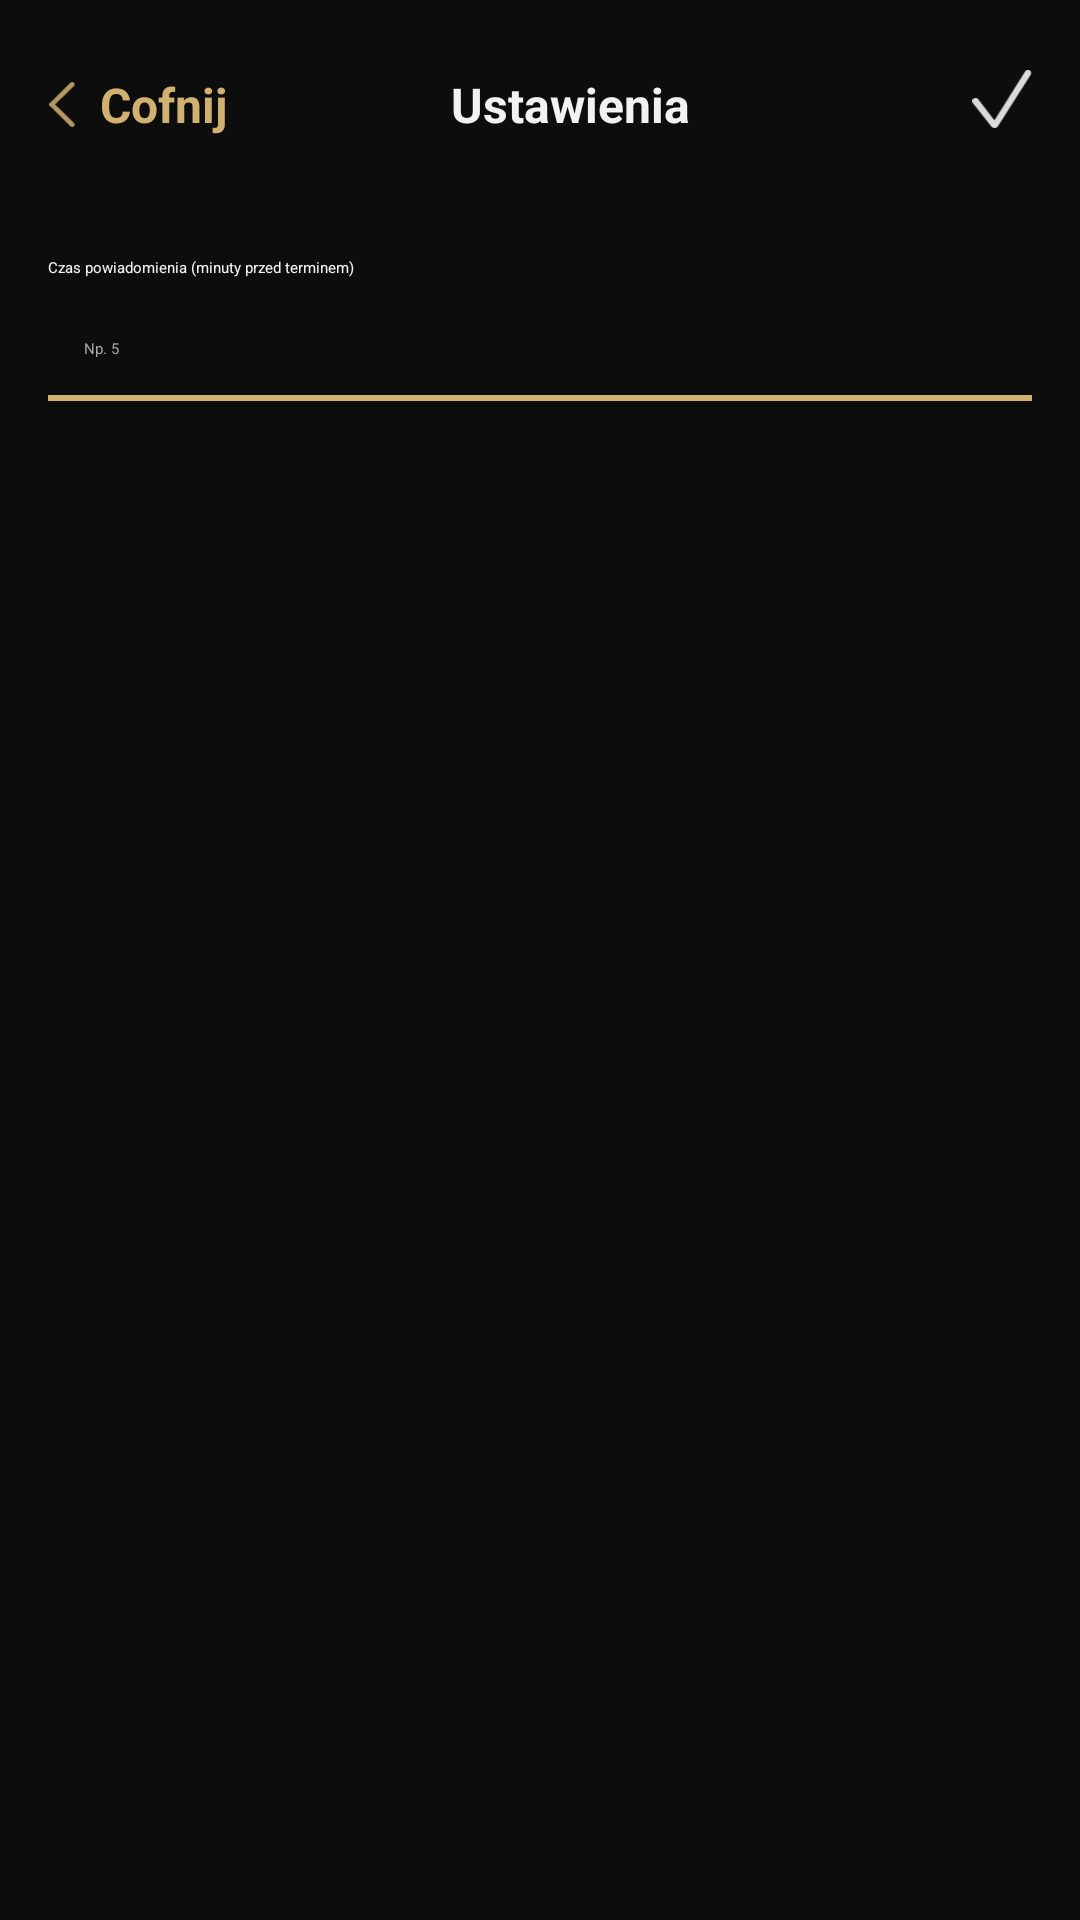

Icons on this 1080*1920 Android screen, each with its box as (x1, y1, x2, y2):
Zapisz: (972, 70, 1032, 128)
